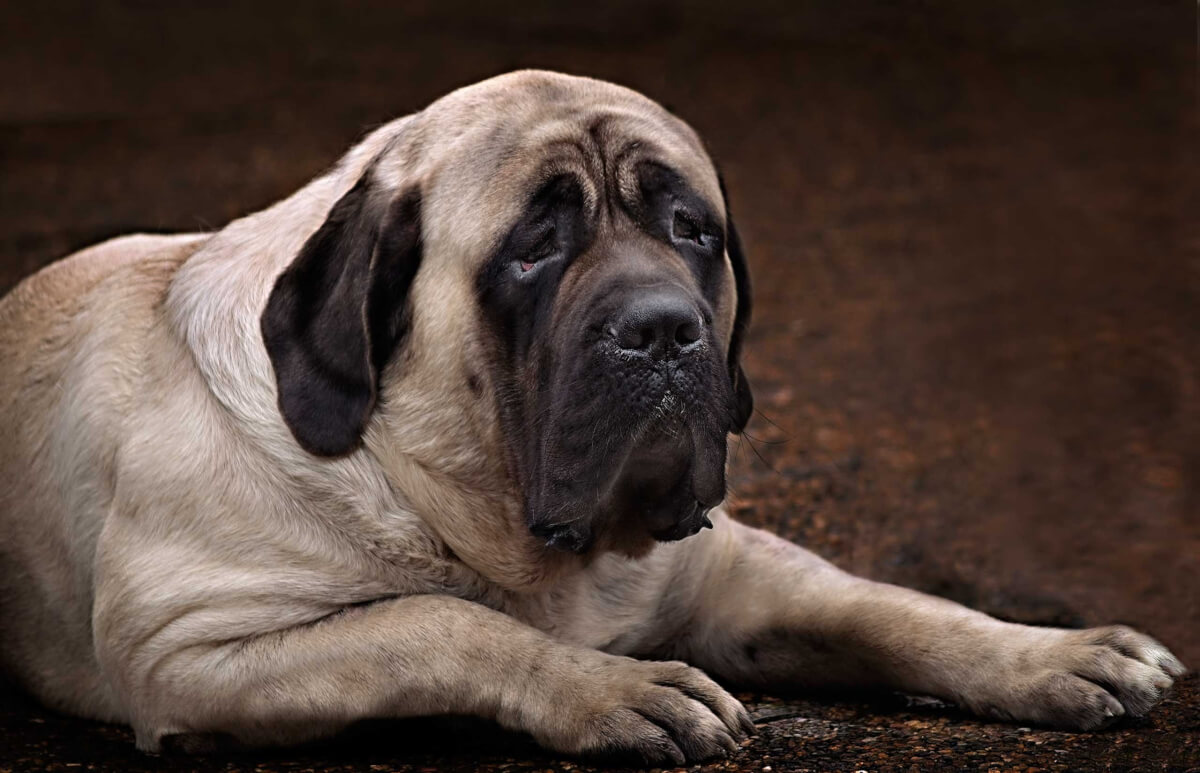mastiff: (0, 66, 1189, 773)
